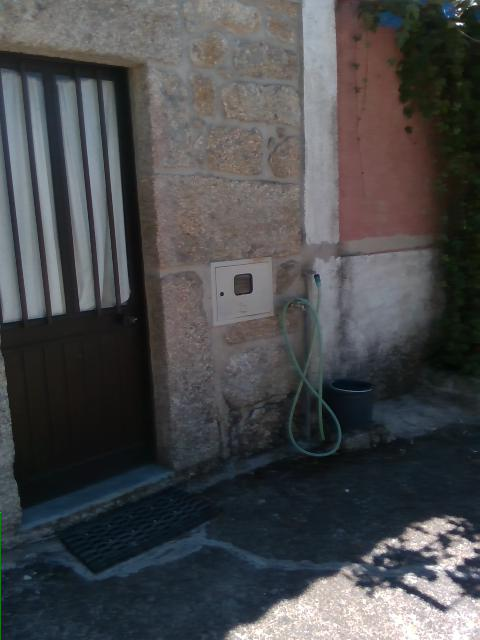door: (1, 39, 173, 530)
